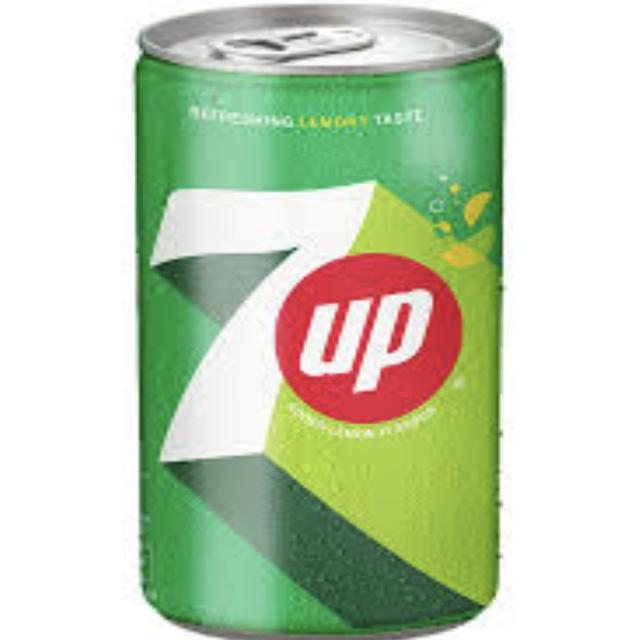recyclable: (92, 5, 532, 640)
